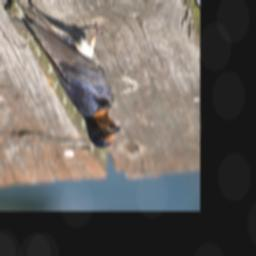Swallow: (3, 0, 121, 149)
